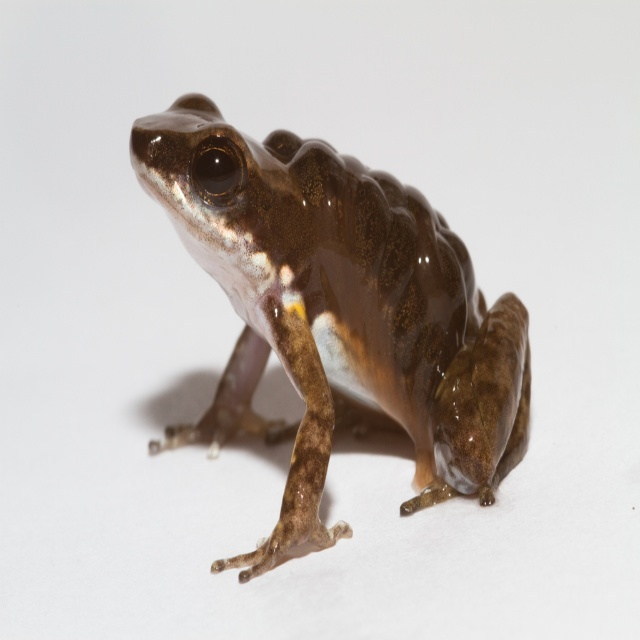Frog: (132, 94, 533, 584)
